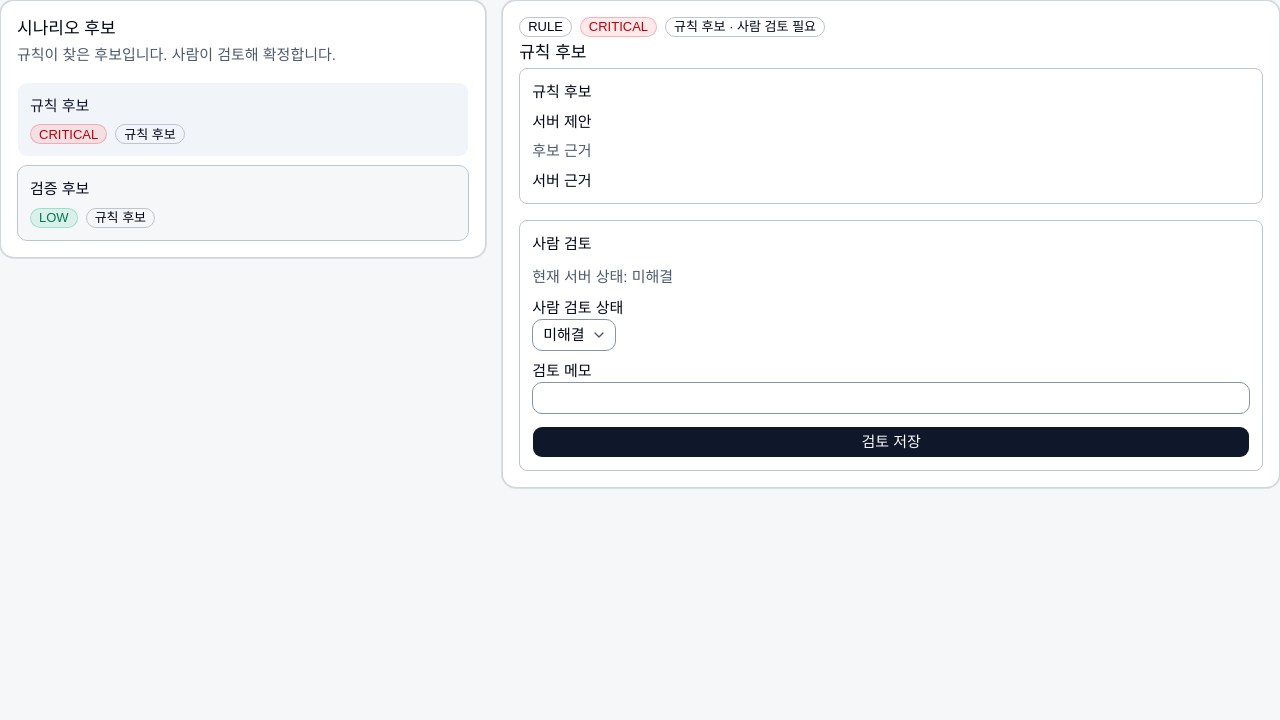
shows generated candidates separately from the selected detail and switches detail without changing the list
Expected: the 2nd text "CRITICAL" is shown, [30,124,107,144]
Expected: the icon "LOW" is shown, [30,208,78,228]
Click the button "검증 후보 LOW 규칙 후보".
click(60, 189)  # box [17,165,469,241]
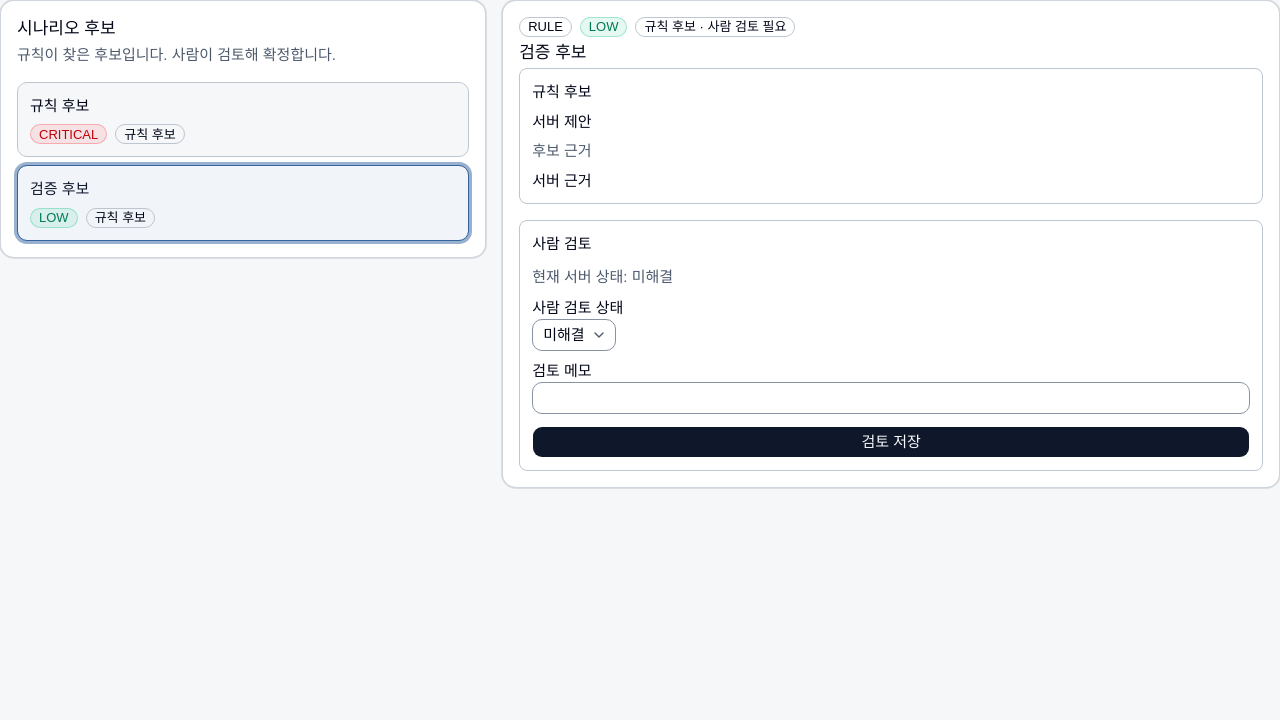
Expected: the 1st text "규칙 후보" is shown, [30,97,89,114]
Expected: the text "검증 후보" below "RULE" is shown, [519,43,586,62]
